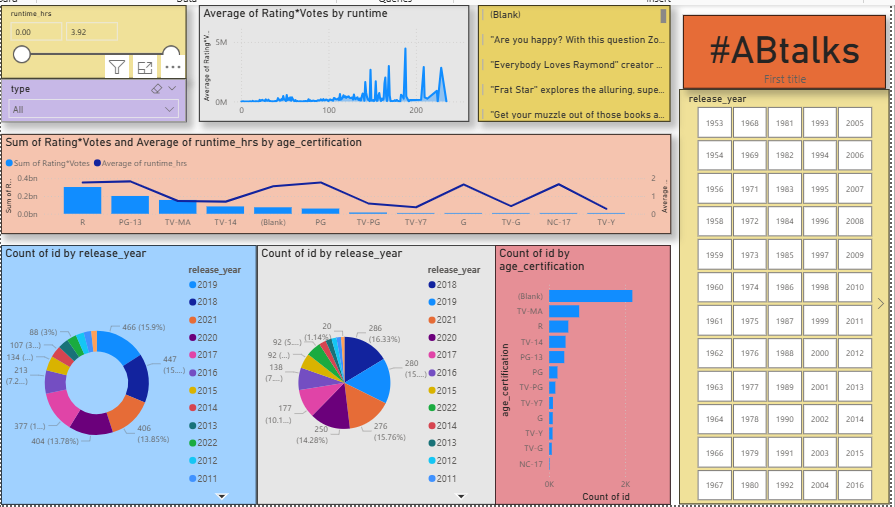

The dashboard page shown, as its layout file describes it:
{"tool":"powerbi","page":{"name":"Session 10 Activity","canvas":[1280,720],"ordinal":0},"visuals":[{"type":"slicer","fields":{"Values":["Netflix TV Shows and Movies.runtime_hrs"]},"box":[0,0,266.5,106],"z":0},{"type":"slicer","fields":{"Values":["Netflix TV Shows and Movies.release_year"]},"box":[976.7,121.1,302.8,598.1],"z":1000},{"type":"slicer","fields":{"Values":["Netflix TV Shows and Movies.type"]},"box":[0,106,266.5,62.1],"z":2000},{"type":"donutChart","fields":{"Category":["Netflix TV Shows and Movies.release_year"],"Y":["Count(Netflix TV Shows and Movies.id)"]},"box":[0,345.2,368,374],"z":3000},{"type":"pieChart","fields":{"Category":["Netflix TV Shows and Movies.release_year"],"Y":["Count(Netflix TV Shows and Movies.id)"]},"box":[368,345.2,343.7,374],"z":4000},{"type":"areaChart","fields":{"Category":["Netflix TV Shows and Movies.runtime"],"Y":["Avg(Netflix TV Shows and Movies.Rating*Votes)"]},"box":[284.7,0,389.2,168.1],"z":5000},{"type":"lineStackedColumnComboChart","fields":{"Category":["Netflix TV Shows and Movies.age_certification"],"Y":["Sum(Netflix TV Shows and Movies.Rating*Votes)"],"Y2":["Avg(Netflix TV Shows and Movies.runtime_hrs)"]},"box":[0,186.2,964.5,143.8],"z":6000},{"type":"clusteredBarChart","fields":{"Category":["Netflix TV Shows and Movies.age_certification"],"Y":["Count(Netflix TV Shows and Movies.id)"]},"box":[711.8,345,253.3,374.1],"z":7000},{"type":"multiRowCard","fields":{"Values":["Netflix TV Shows and Movies.description"]},"box":[687.4,0,277.1,168.1],"z":8000},{"type":"card","fields":{"Values":["Min(Netflix TV Shows and Movies.title)"]},"box":[982,15,292,106],"z":9000}]}

Visuals, with their boxes in screenshot pixels (x1, y1, x2, y2), scaled from the page's 1280x720 canvas onto the 895x507 screenshot:
slicer - Netflix TV Shows and Movies.runtime_hrs: [x1=0, y1=0, x2=186, y2=75]
slicer - Netflix TV Shows and Movies.release_year: [x1=683, y1=85, x2=894, y2=506]
slicer - Netflix TV Shows and Movies.type: [x1=0, y1=75, x2=186, y2=118]
donutChart - Netflix TV Shows and Movies.release_year x Count(Netflix TV Shows and Movies.id): [x1=0, y1=243, x2=257, y2=506]
pieChart - Netflix TV Shows and Movies.release_year x Count(Netflix TV Shows and Movies.id): [x1=257, y1=243, x2=498, y2=506]
areaChart - Netflix TV Shows and Movies.runtime x Avg(Netflix TV Shows and Movies.Rating*Votes): [x1=199, y1=0, x2=471, y2=118]
lineStackedColumnComboChart - Netflix TV Shows and Movies.age_certification x Sum(Netflix TV Shows and Movies.Rating*Votes): [x1=0, y1=131, x2=674, y2=232]
clusteredBarChart - Netflix TV Shows and Movies.age_certification x Count(Netflix TV Shows and Movies.id): [x1=498, y1=243, x2=675, y2=506]
multiRowCard - Netflix TV Shows and Movies.description: [x1=481, y1=0, x2=674, y2=118]
card - Min(Netflix TV Shows and Movies.title): [x1=687, y1=11, x2=891, y2=85]
